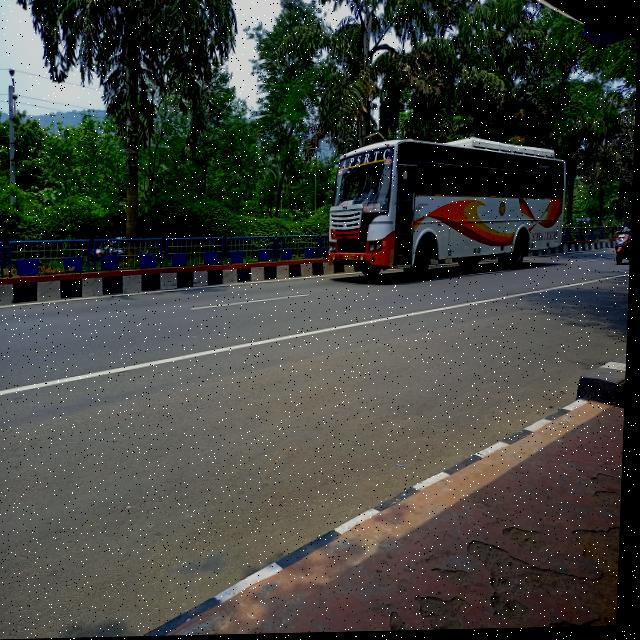bus: (329, 134, 585, 287)
